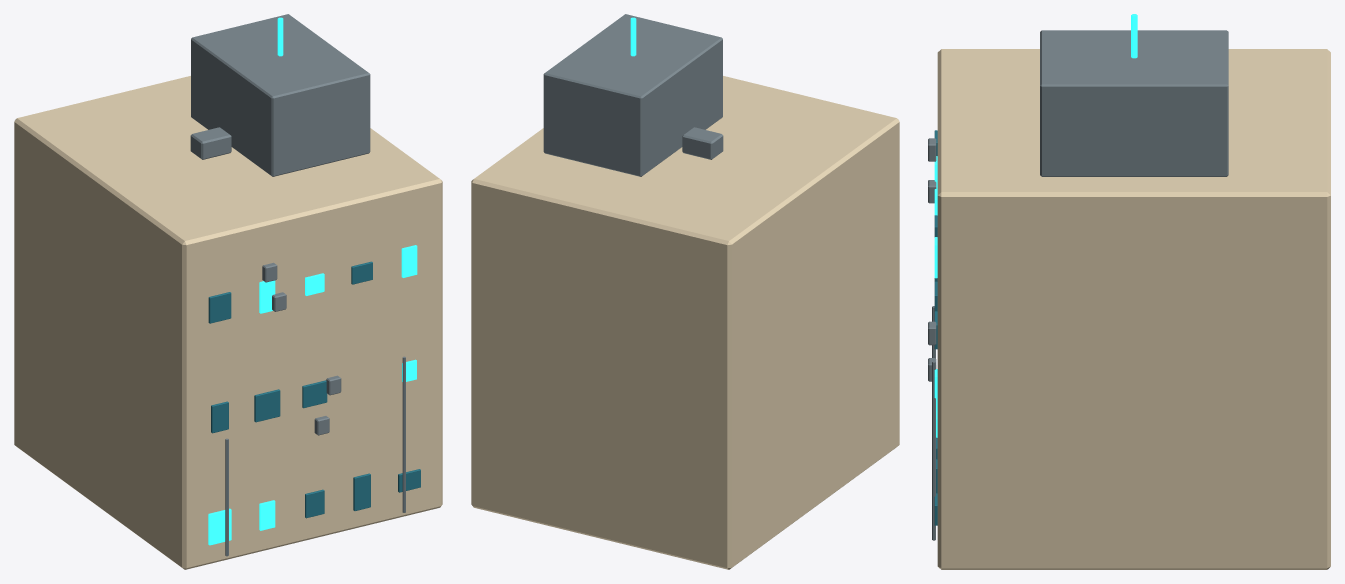
The model's file is building_033_seed11.glb.
The picture shows the model from 3 angles, left to right: view 1: azimuth 30°, elevation 25°; view 2: azimuth 150°, elevation 25°; view 3: azimuth 270°, elevation 25°; orthographic projection. The views are drawn at different scales.
Visible parts, largest first — view 1: building_033_seed11; view 2: building_033_seed11; view 3: building_033_seed11.
Part boxes in pixels (x1=…): building_033_seed11: x1=14, y1=14, x2=442, y2=569; building_033_seed11: x1=471, y1=14, x2=899, y2=569; building_033_seed11: x1=928, y1=14, x2=1330, y2=569.
Size of the model in its own units: 7.45 by 12.18 by 8.68.
